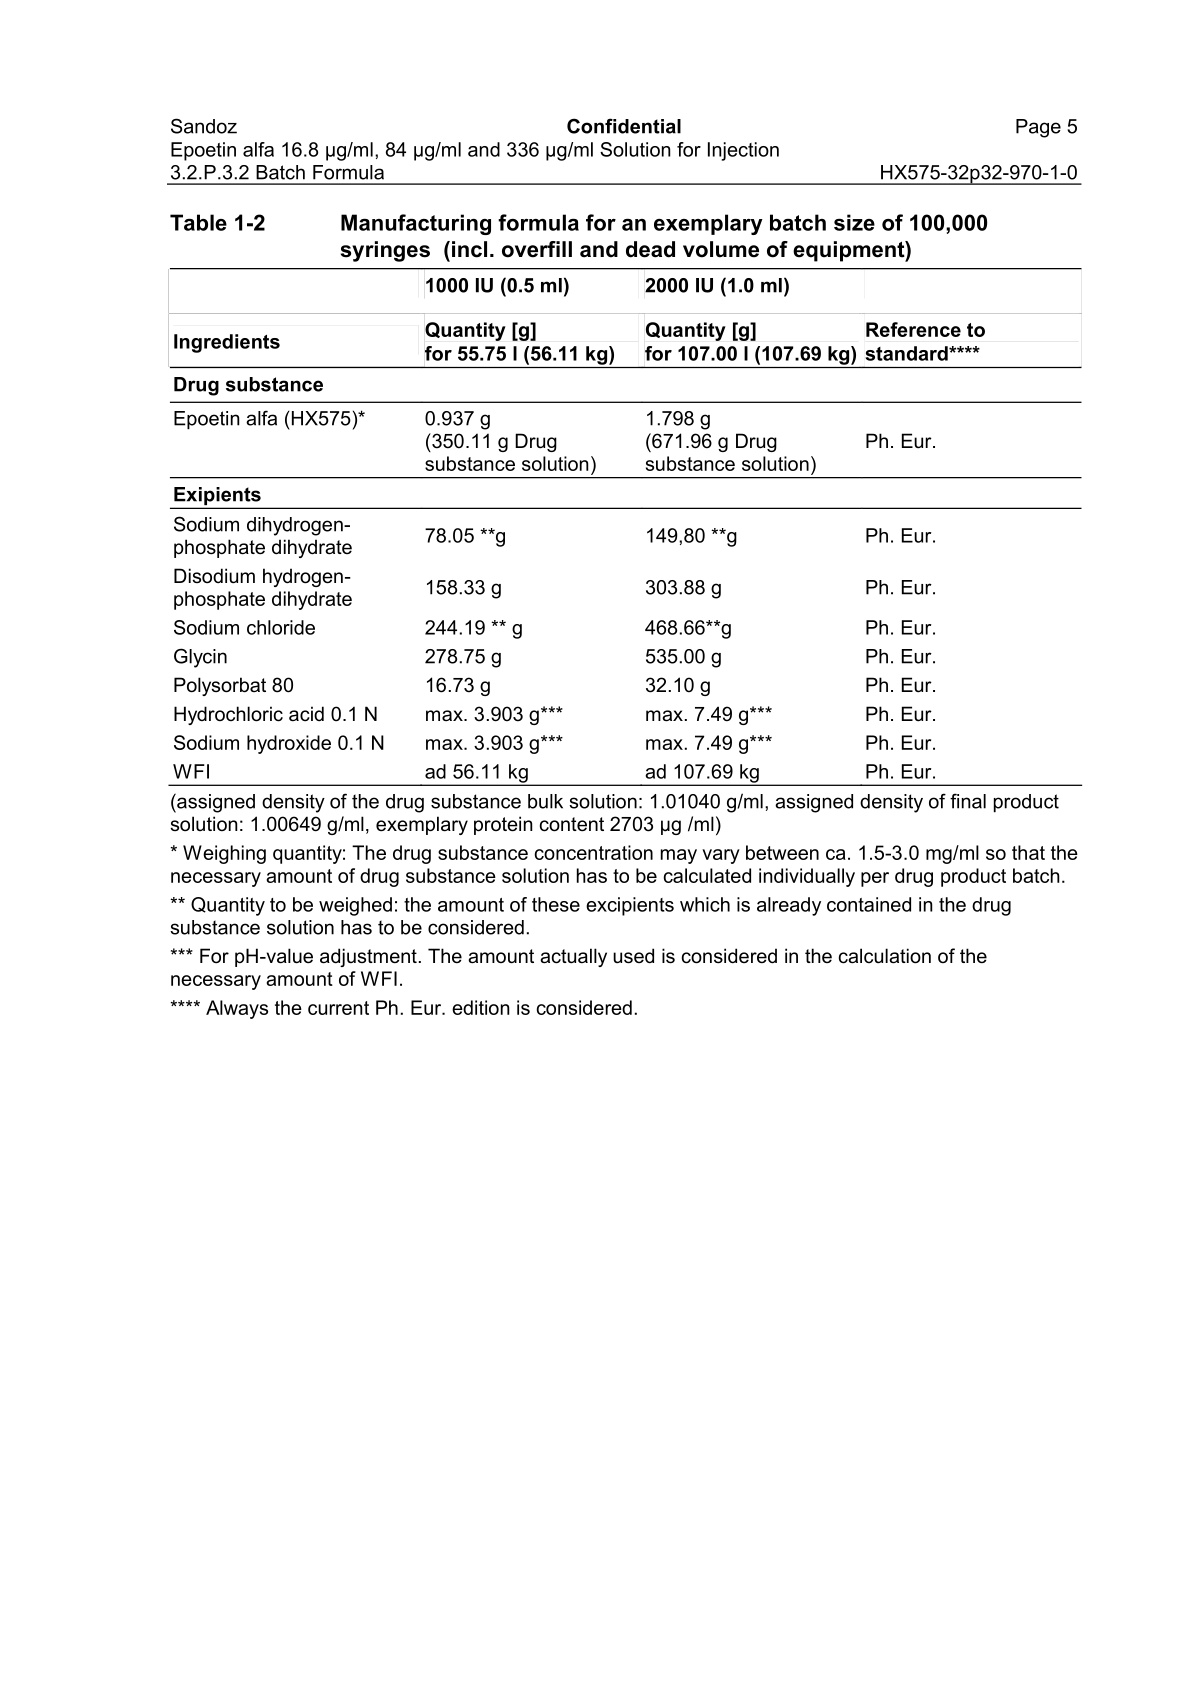partial_lined: (168, 265, 1083, 787)
